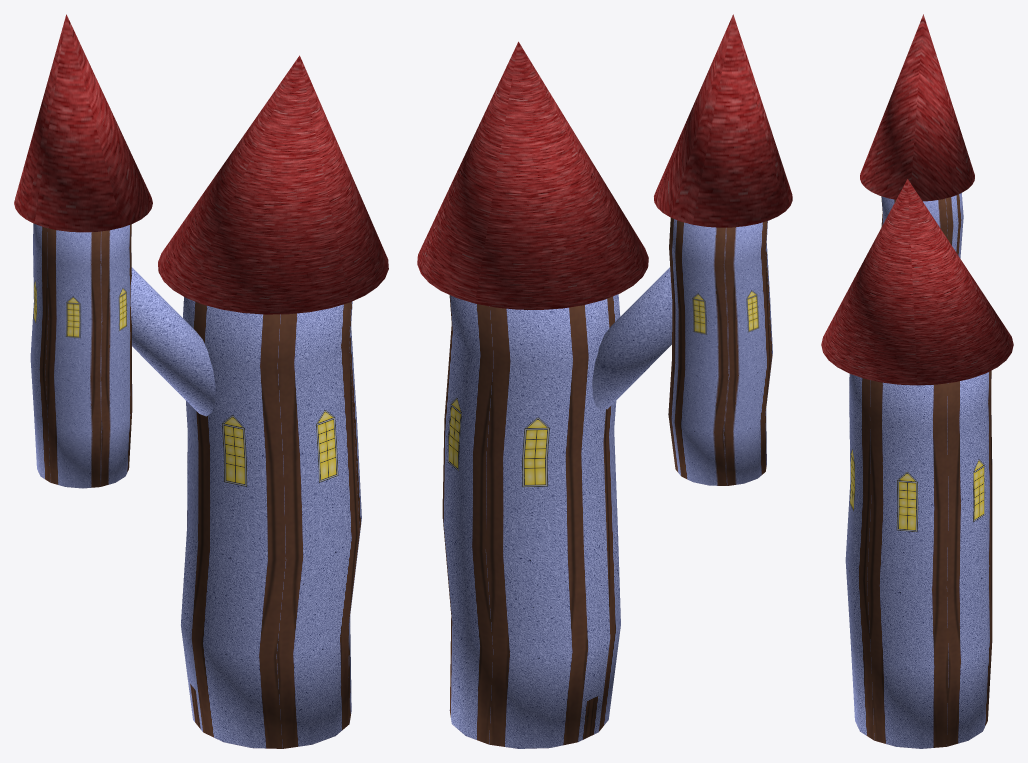
Rendered from wizardTower.fbx.
3 renders of one model, left to right at view 1: azimuth 30°, elevation 25°; view 2: azimuth 150°, elevation 25°; view 3: azimuth 270°, elevation 25°, orthographic. The views are drawn at different scales.
Visible parts, largest first — view 1: Cylinder.001; view 2: Cylinder.001; view 3: Cylinder.001.
Boxes of the visible parts, x1,y1,x2,y2 form: Cylinder.001: [14, 14, 388, 748]; Cylinder.001: [417, 14, 792, 748]; Cylinder.001: [821, 14, 1013, 748].
Size of the model in its own units: 72.85 by 149 by 41.73.
